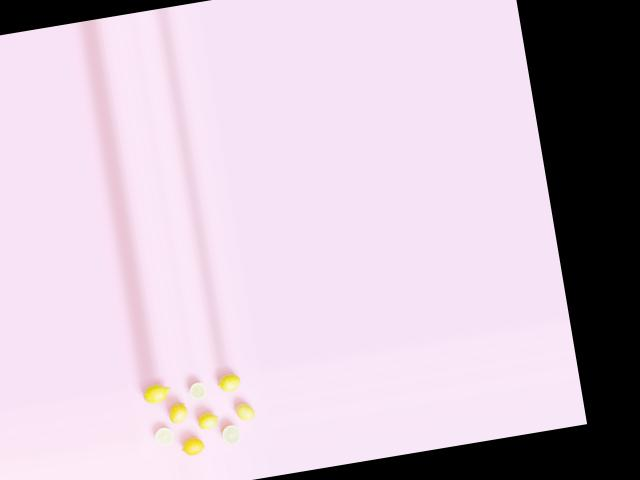lemon: (212, 369, 242, 391)
